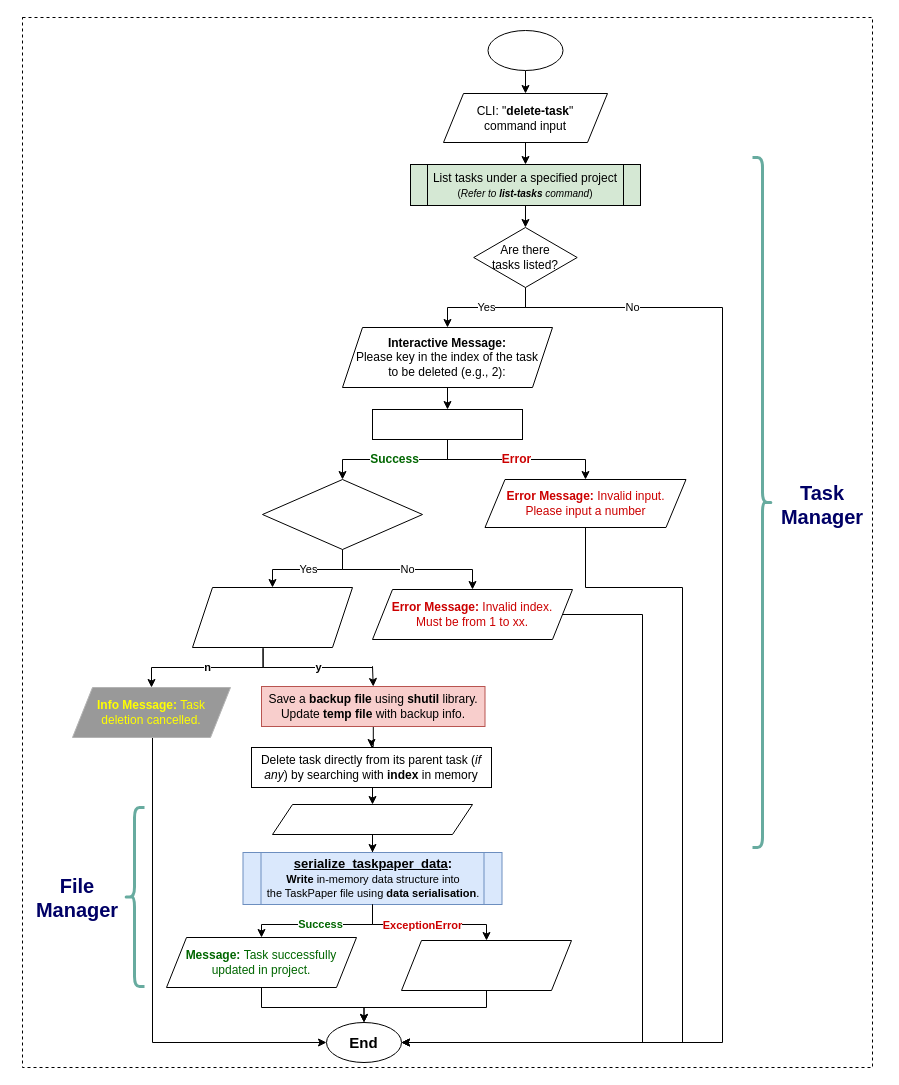
The diagram is 899 pixels wide and 1085 high, and some of its shapes have lost their labels. The centre of each missing label's shape, as x and y in pixels:
"Convert input to integer" belongs at (x=447, y=424).
"Error Message: Unable to write the file." belongs at (x=486, y=965).
"Interactive Message: Are you sure you want to delete task? (y/n):" belongs at (x=272, y=617).
"Is index from 1 to length of tasks?" belongs at (x=342, y=514).
"Message: Deleting task in file..." belongs at (x=372, y=819).
"Start" belongs at (x=525, y=50).
